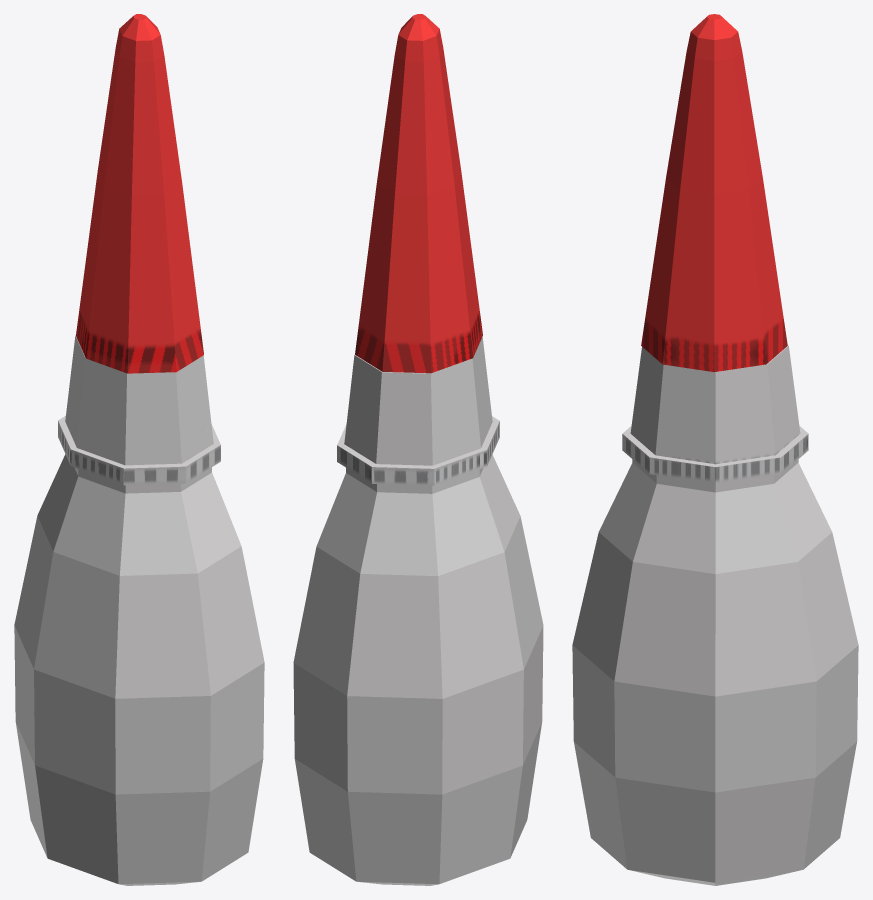
The model's file is Glue.fbx.
3 renders of one model, left to right at view 1: azimuth 30°, elevation 25°; view 2: azimuth 150°, elevation 25°; view 3: azimuth 270°, elevation 25°, orthographic.
Parts seen in each view (by area): view 1: Yapıştırıcı, Kapak; view 2: Yapıştırıcı, Kapak; view 3: Yapıştırıcı, Kapak.
Part boxes in pixels (x1,y1,x2,y2): Yapıştırıcı: (14, 335, 264, 885); Kapak: (76, 14, 203, 373); Yapıştırıcı: (293, 337, 543, 885); Kapak: (355, 14, 482, 373); Yapıştırıcı: (572, 345, 858, 885); Kapak: (641, 14, 787, 372).
Bounding box in the file's own units: 130 × 494 × 152.
